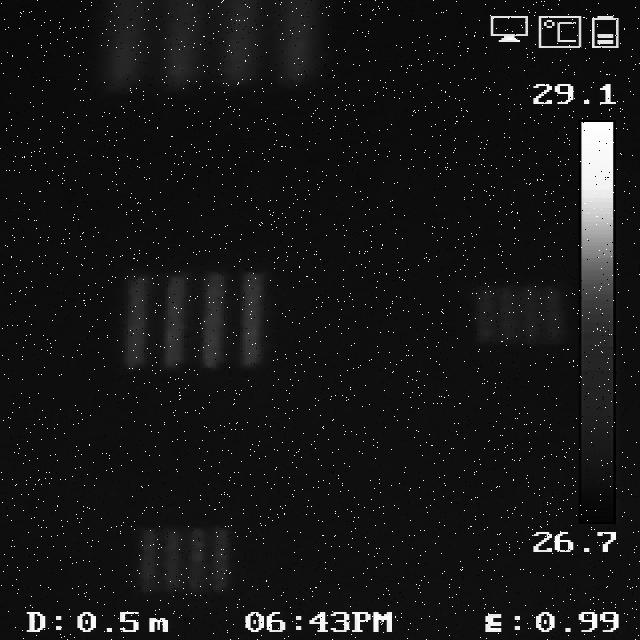Distinguishable 4-bar target: (93, 0, 330, 91), (120, 259, 272, 378), (465, 276, 568, 352), (130, 522, 234, 594)
